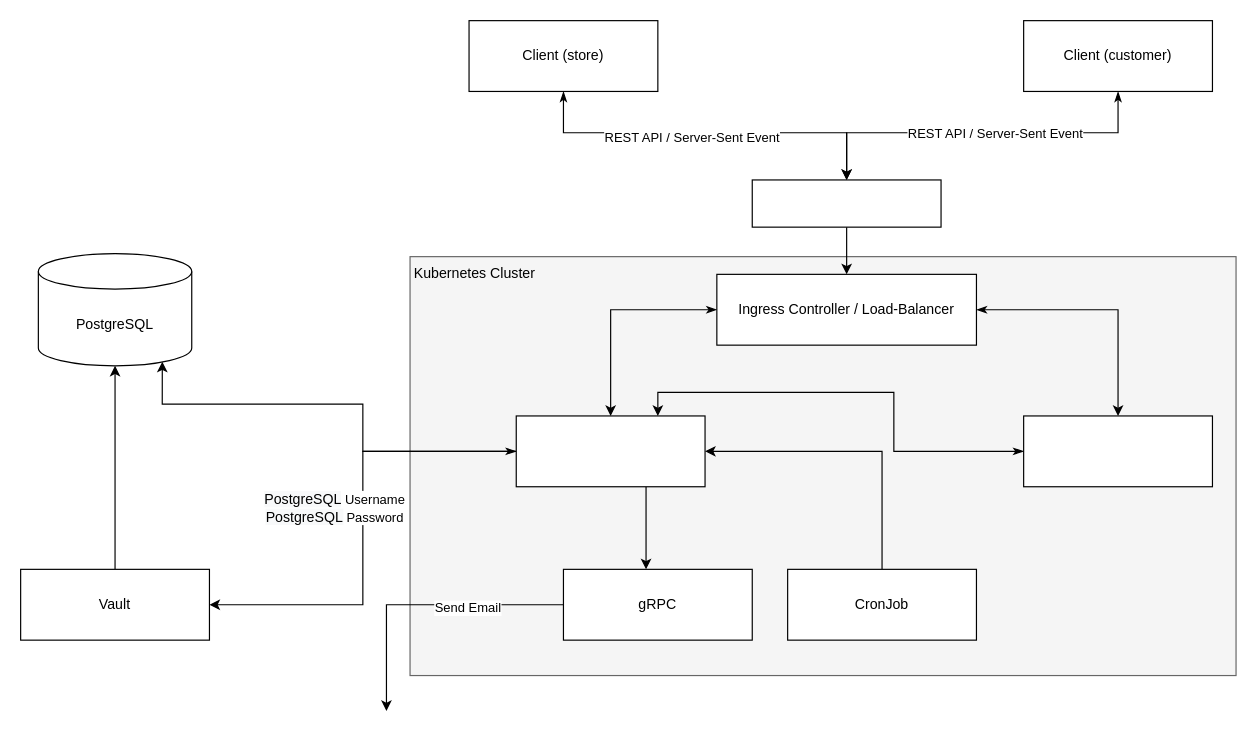
The diagram is 1257 pixels wide and 741 high, and some of its shapes have lost their labels. The centre of each missing label's shape, as x and y in pixels:
"Backend" goes at point 610,451.
"Content Delivery Network" goes at point 846,203.
"Frontend" goes at point 1117,451.
